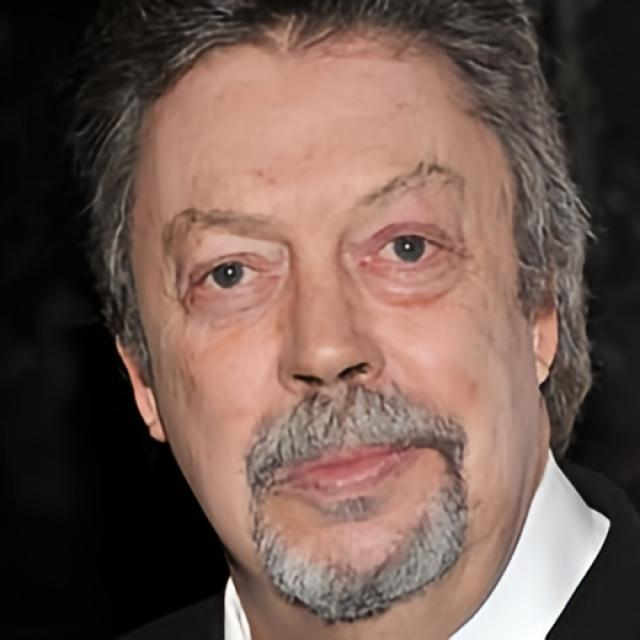content: (127, 17, 542, 617)
